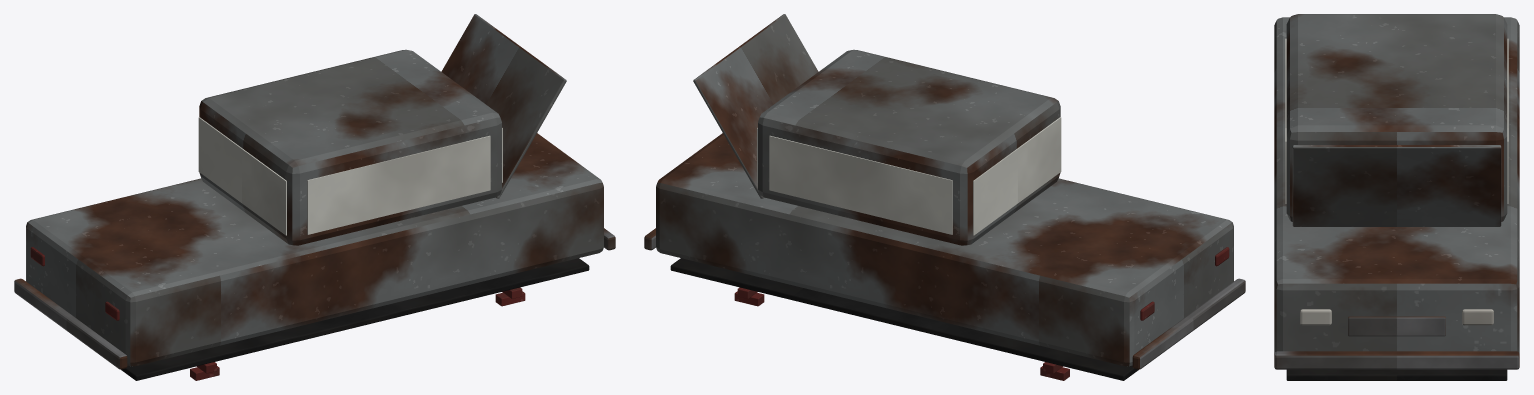
The model's file is JV04_car_on_bricks_v2.glb.
The picture shows the model from 3 angles, left to right: view 1: azimuth 30°, elevation 25°; view 2: azimuth 150°, elevation 25°; view 3: azimuth 270°, elevation 25°; orthographic projection. The views are drawn at different scales.
Visible parts, largest first — view 1: JV04_car_on_bricks_v2; view 2: JV04_car_on_bricks_v2; view 3: JV04_car_on_bricks_v2.
Boxes of the visible parts, x1,y1,x2,y2 form: JV04_car_on_bricks_v2: [14, 14, 615, 380]; JV04_car_on_bricks_v2: [644, 14, 1245, 380]; JV04_car_on_bricks_v2: [1274, 14, 1519, 380].
Size of the model in its own units: 4.4 by 1.78 by 1.63.
Materials: 6 (6 with a texture image).
